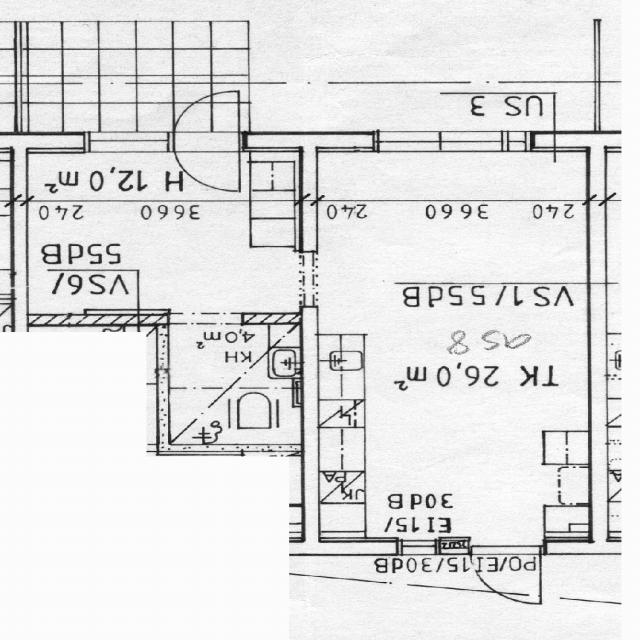door: (174, 132, 239, 200), (174, 84, 239, 152), (471, 545, 540, 605)
